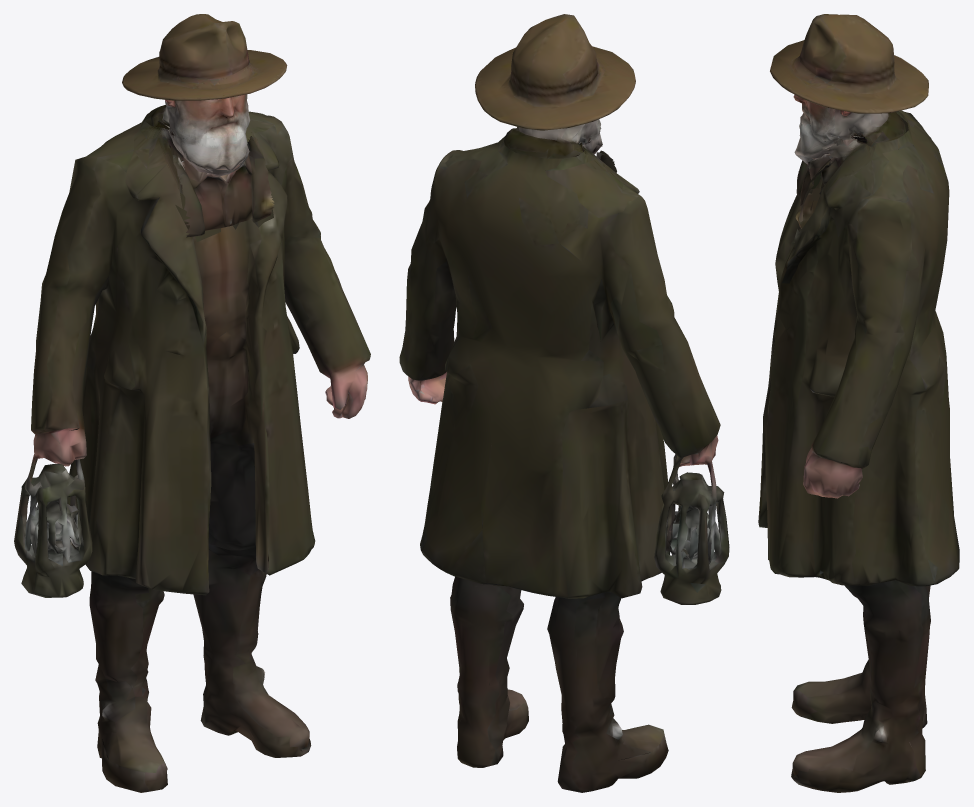
Rendered from ranger.phone.glb.
3 renders of one model, left to right at view 1: azimuth 30°, elevation 25°; view 2: azimuth 150°, elevation 25°; view 3: azimuth 270°, elevation 25°, orthographic. The views are drawn at different scales.
Parts seen in each view (by area): view 1: ranger.phone.raw; view 2: ranger.phone.raw; view 3: ranger.phone.raw.
Part boxes in pixels (box(x1,y1,x2,y2)): ranger.phone.raw: box(14, 14, 370, 792); ranger.phone.raw: box(399, 14, 729, 792); ranger.phone.raw: box(758, 14, 959, 792).
Bounding box in the file's own units: 0.8433 × 1.81 × 0.45.
Materials: 1 (1 with a texture image).
